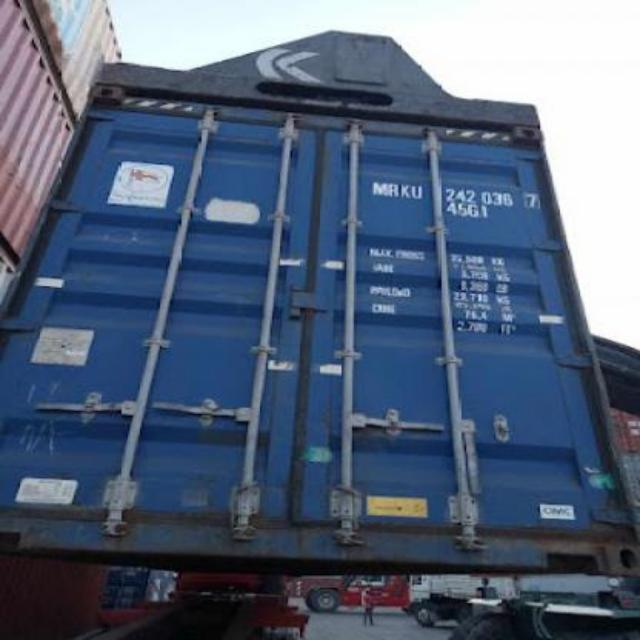0: (482, 190, 492, 204)
2: (444, 186, 456, 202), (466, 186, 478, 202)
3: (492, 189, 504, 207)
4: (456, 185, 466, 201)
6: (502, 187, 514, 210)
7: (524, 192, 538, 208)
K: (398, 180, 412, 198)
M: (370, 180, 390, 196)
R: (388, 181, 400, 197)
U: (412, 182, 424, 200)
